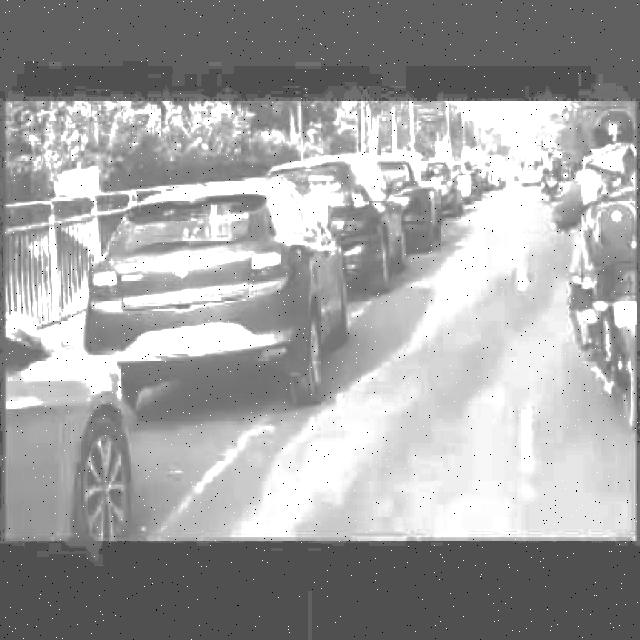Car: (110, 180, 302, 369), (11, 306, 105, 549), (328, 145, 389, 280), (386, 144, 433, 252), (434, 151, 467, 215)
